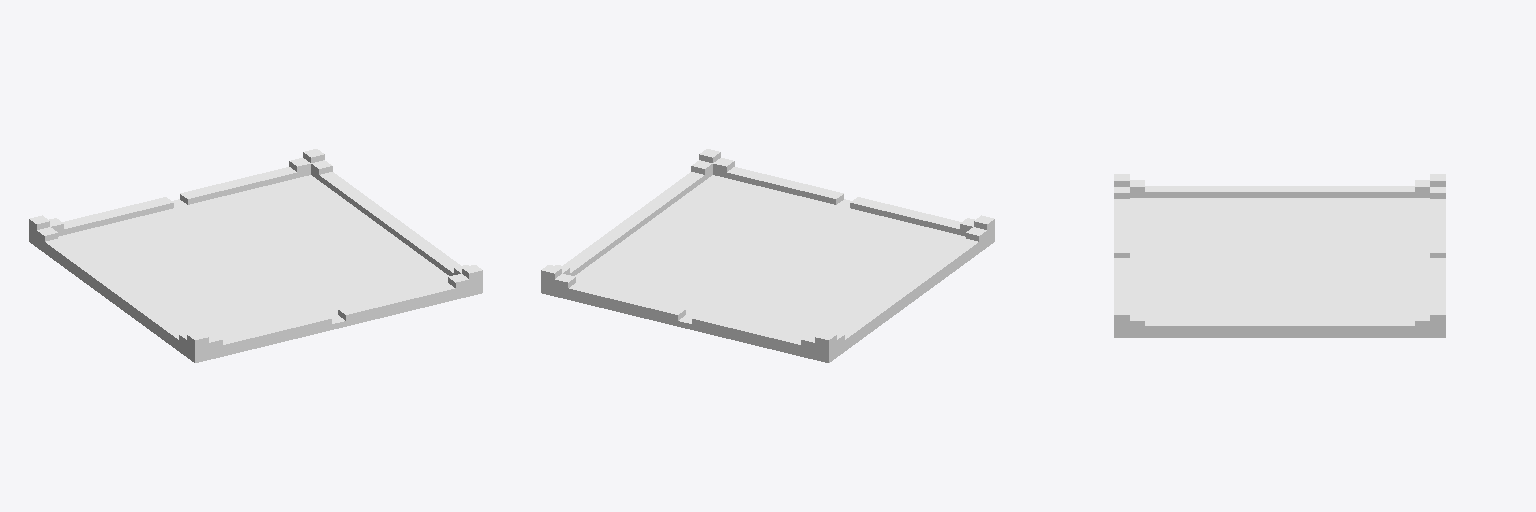
File: WideStraightPlaza.obj
The picture shows the model from 3 angles: view 1: azimuth 30°, elevation 25°; view 2: azimuth 150°, elevation 25°; view 3: azimuth 270°, elevation 25°; orthographic projection.
Parts seen in each view (by area): view 1: object 1; view 2: object 1; view 3: object 1.
Part boxes in pixels (x1,y1,x2,y2): object 1: (29,149,482,362); object 1: (541,149,994,362); object 1: (1114,174,1445,337).
Bounding box in the file's own units: 21 × 1.6 × 21.